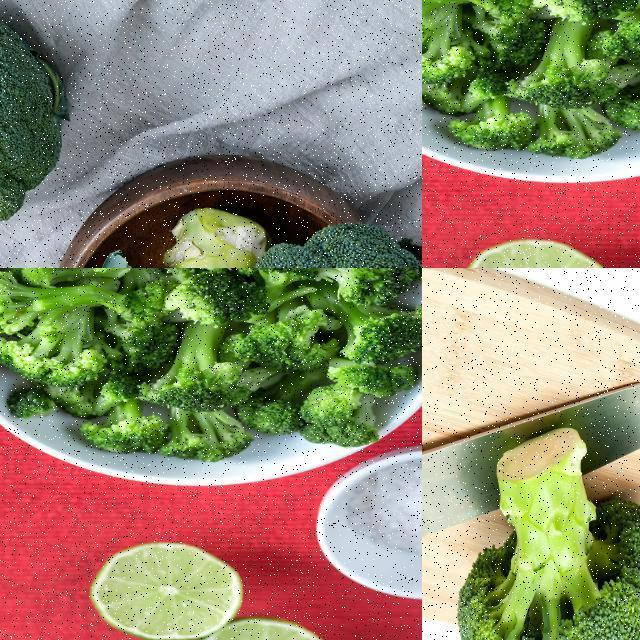broccoli: (456, 418, 639, 639), (0, 2, 60, 265), (306, 268, 421, 366), (508, 11, 618, 112), (140, 314, 250, 414), (0, 297, 121, 387), (223, 298, 349, 372), (248, 219, 421, 267), (0, 268, 135, 329), (296, 370, 383, 444), (422, 0, 489, 84), (591, 0, 639, 70)
